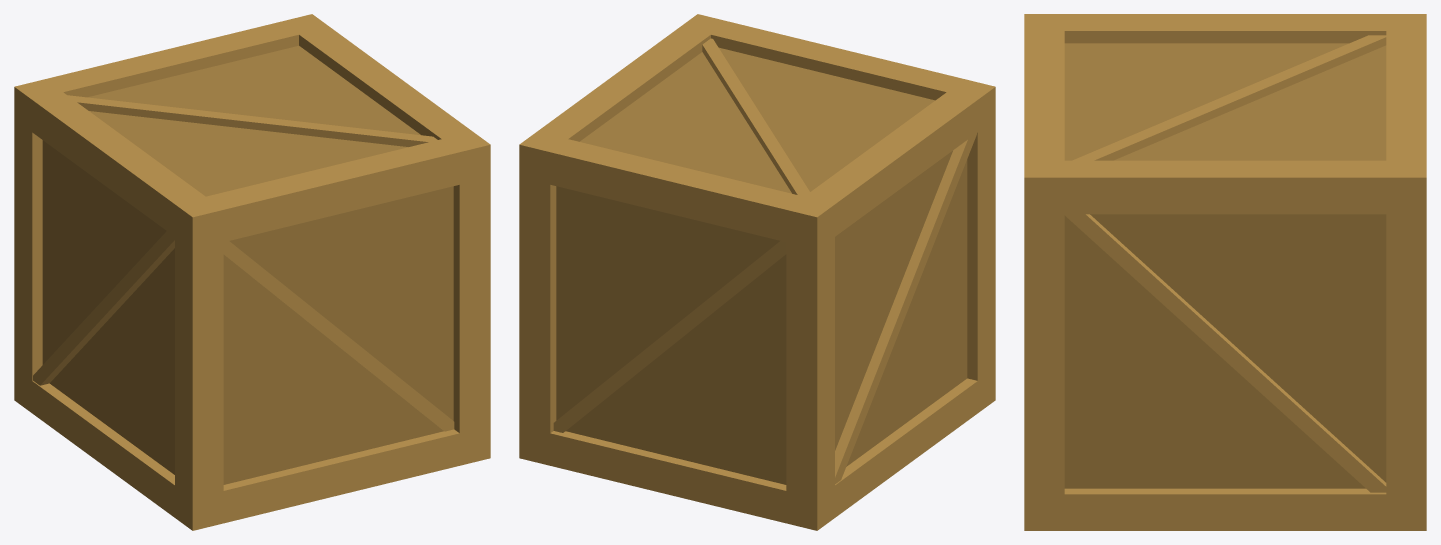
3 views of the same model, side by side, from view 1: azimuth 30°, elevation 25°; view 2: azimuth 150°, elevation 25°; view 3: azimuth 270°, elevation 25° (orthographic). The views are drawn at different scales.
Visible parts, largest first — view 1: Cube_7; view 2: Cube_7; view 3: Cube_7.
Part boxes in pixels (x1=…): Cube_7: x1=14, y1=14, x2=490, y2=530; Cube_7: x1=519, y1=14, x2=995, y2=530; Cube_7: x1=1024, y1=14, x2=1426, y2=530.
Bounding box in the file's own units: 68.16 × 68.54 × 70.72.
